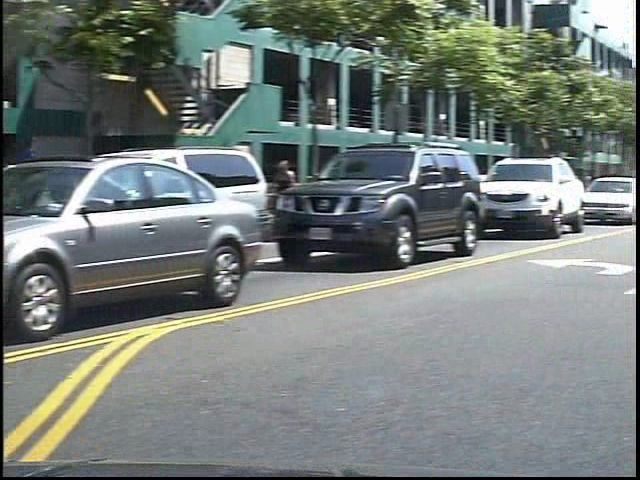person: (285, 154, 315, 231)
